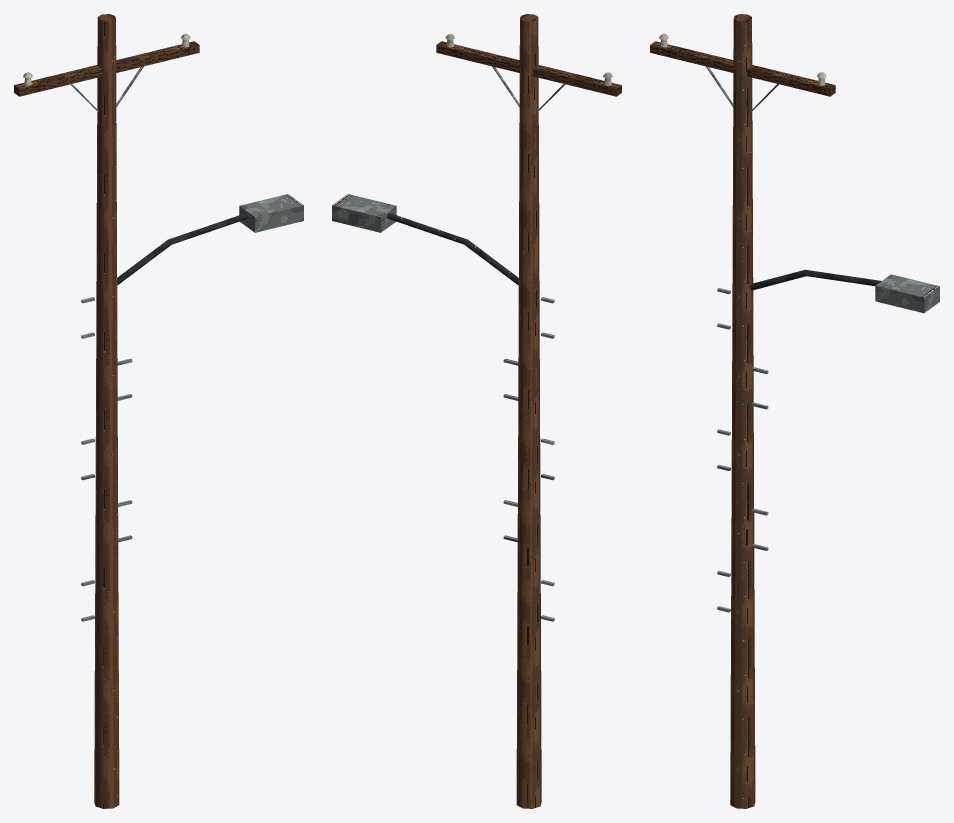
The model's file is SP_UtilityPole_Streetlight.obj.
3 renders of one model, left to right at view 1: azimuth 30°, elevation 25°; view 2: azimuth 150°, elevation 25°; view 3: azimuth 330°, elevation 25°, orthographic.
Parts seen in each view (by area): view 1: SP_UtilityPole_Streetlight_Mesh_M_Town_PoleWood, SP_UtilityPole_Streetlight_Mesh_M_Furn_WoodDark, SP_UtilityPole_Streetlight_Mesh_M_Com_SignageBacking, SP_UtilityPole_Streetlight_Mesh_M_Town_PaintBlack, SP_UtilityPole_Streetlight_Mesh_M_Furn_MetalBrushed; view 2: SP_UtilityPole_Streetlight_Mesh_M_Town_PoleWood, SP_UtilityPole_Streetlight_Mesh_M_Furn_WoodDark, SP_UtilityPole_Streetlight_Mesh_M_Com_SignageBacking, SP_UtilityPole_Streetlight_Mesh_M_Town_PaintBlack, SP_UtilityPole_Streetlight_Mesh_M_Furn_MetalBrushed; view 3: SP_UtilityPole_Streetlight_Mesh_M_Town_PoleWood, SP_UtilityPole_Streetlight_Mesh_M_Furn_WoodDark, SP_UtilityPole_Streetlight_Mesh_M_Com_SignageBacking, SP_UtilityPole_Streetlight_Mesh_M_Furn_MetalBrushed, SP_UtilityPole_Streetlight_Mesh_M_Town_PaintBlack.
Boxes of the visible parts, x1,y1,x2,y2 form: SP_UtilityPole_Streetlight_Mesh_M_Town_PoleWood: (94, 14, 119, 808); SP_UtilityPole_Streetlight_Mesh_M_Furn_WoodDark: (14, 41, 199, 96); SP_UtilityPole_Streetlight_Mesh_M_Com_SignageBacking: (239, 194, 303, 232); SP_UtilityPole_Streetlight_Mesh_M_Town_PaintBlack: (117, 213, 248, 285); SP_UtilityPole_Streetlight_Mesh_M_Furn_MetalBrushed: (70, 66, 143, 621); SP_UtilityPole_Streetlight_Mesh_M_Town_PoleWood: (516, 14, 541, 808); SP_UtilityPole_Streetlight_Mesh_M_Furn_WoodDark: (436, 41, 621, 96); SP_UtilityPole_Streetlight_Mesh_M_Com_SignageBacking: (332, 194, 396, 232); SP_UtilityPole_Streetlight_Mesh_M_Town_PaintBlack: (387, 213, 518, 285); SP_UtilityPole_Streetlight_Mesh_M_Furn_MetalBrushed: (492, 66, 565, 621); SP_UtilityPole_Streetlight_Mesh_M_Town_PoleWood: (730, 14, 755, 808); SP_UtilityPole_Streetlight_Mesh_M_Furn_WoodDark: (650, 41, 835, 96); SP_UtilityPole_Streetlight_Mesh_M_Com_SignageBacking: (875, 274, 939, 313); SP_UtilityPole_Streetlight_Mesh_M_Furn_MetalBrushed: (705, 66, 778, 612); SP_UtilityPole_Streetlight_Mesh_M_Town_PaintBlack: (749, 269, 881, 290).
Size of the model in its own units: 3.72 by 10 by 0.36.
7 materials, 7 textured.
